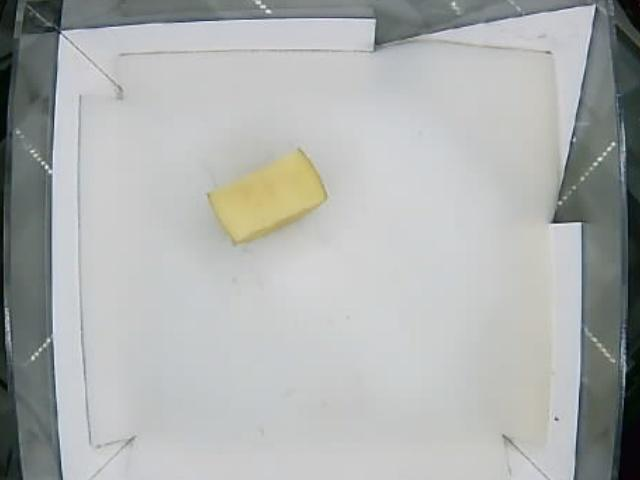Potato: (209, 149, 328, 245)
